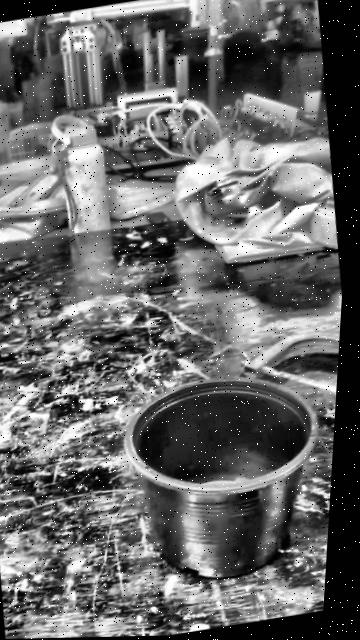pot: (112, 364, 338, 591)
